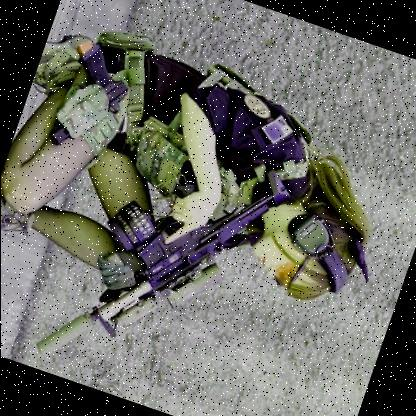rifle: (17, 109, 305, 416), (36, 30, 149, 161)
